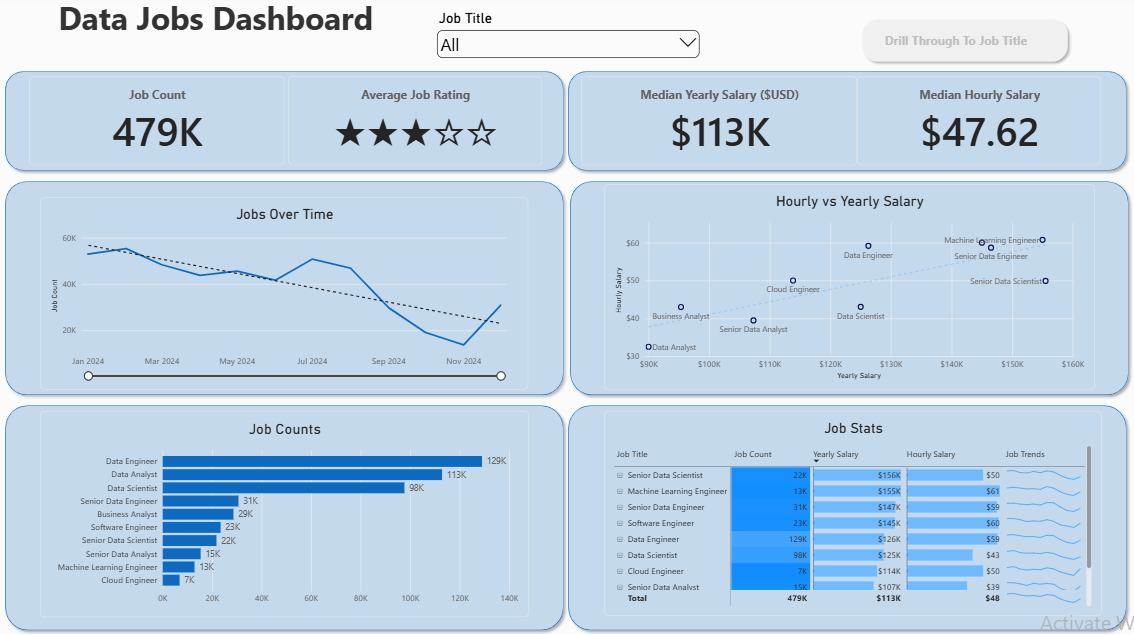

What the dashboard file says about the page in this screenshot:
{"tool":"powerbi","page":{"name":"Data Jobs Dashboard","canvas":[1920,1080],"ordinal":0},"visuals":[{"type":"shape","box":[0,118.6,960,185.5],"z":0,"group":"g1"},{"type":"group","id":"g1","title":"Background","box":[0,118.6,1914.3,961.9],"z":500},{"type":"textbox","box":[9.6,0,707.6,97.5],"z":1000},{"type":"shape","box":[950.4,118.6,960,185.5],"z":1000,"group":"g1"},{"type":"slicer","fields":{"Values":["job_postings_flat.job_title_short"]},"box":[732.4,22.9,453.2,281.1],"z":2000},{"type":"shape","box":[0,304.1,960,378.6],"z":2000,"group":"g1"},{"type":"cardVisual","fields":{"Data":["Median(job_postings_flat.salary_hour_avg)"]},"box":[1446.4,135.3,412.9,151.6],"z":3000},{"type":"shape","box":[954.3,304.1,960,378.6],"z":3000,"group":"g1"},{"type":"cardVisual","fields":{"Data":["Median(job_postings_flat.salary_year_avg)"]},"box":[979.8,135.3,466.6,151.6],"z":4000},{"type":"shape","box":[0,682.7,960,397.8],"z":4000,"group":"g1"},{"type":"cardVisual","fields":{"Data":["job_postings_flat.Salary Star Rating"]},"box":[485.2,135.3,429.3,151.6],"z":5000},{"type":"shape","box":[950.4,682.7,960,397.8],"z":5000,"group":"g1"},{"type":"cardVisual","fields":{"Data":["CountNonNull(job_postings_flat.job_title_short)"]},"box":[49,135.3,431.6,151.6],"z":6000},{"type":"lineChart","title":"Jobs Over Time","fields":{"Category":["job_postings_flat.job_posted_date.Variation.Date Hierarchy.Year","job_postings_flat.job_posted_date.Variation.Date Hierarchy.Quarter","job_postings_flat.job_posted_date.Variation.Date Hierarchy.Month","job_postings_flat.job_posted_date.Variation.Date Hierarchy.Day"],"Y":["CountNonNull(job_postings_flat.job_title_short)"]},"box":[67.4,338.8,824.3,325],"z":7000},{"type":"barChart","title":"Job Counts","fields":{"Category":["job_postings_flat.job_title_short"],"Y":["CountNonNull(job_postings_flat.job_title_short)"]},"box":[67.2,700.8,824.8,347.8],"z":8000},{"type":"scatterChart","title":"Hourly vs Yearly Salary","fields":{"Series":["job_postings_flat.job_title_short"],"X":["Median(job_postings_flat.salary_year_avg)"],"Y":["Median(job_postings_flat.salary_hour_avg)"]},"box":[1019.5,317.3,828.2,347.6],"z":9000},{"type":"pivotTable","title":"Job Stats","fields":{"Rows":["job_postings_flat.job_title_short","job_postings_flat.job_posted_date.Variation.Date Hierarchy.Quarter"],"Values":["CountNonNull(job_postings_flat.job_title_short)","Median(job_postings_flat.salary_year_avg)","Median(job_postings_flat.salary_hour_avg)","SparklineData(CountNonNull(job_postings_flat.job_title_short)_[job_postings_flat.job_posted_date.Variation.Date Hierarch"]},"box":[1019.4,700.8,840.3,346.1],"z":10000},{"type":"actionButton","box":[1446.4,29.7,364.6,89.2],"z":11000}]}

Visuals, with their boxes in screenshot pixels (x1, y1, x2, y2), scaled from the page's 1920x1080 canvas onto the 1134x634 screenshot:
shape: (x1=0, y1=70, x2=567, y2=179)
"Background" group: (x1=0, y1=70, x2=1131, y2=633)
textbox: (x1=6, y1=0, x2=424, y2=57)
shape: (x1=561, y1=70, x2=1128, y2=179)
slicer - job_postings_flat.job_title_short: (x1=433, y1=13, x2=700, y2=178)
shape: (x1=0, y1=179, x2=567, y2=401)
cardVisual - Median(job_postings_flat.salary_hour_avg): (x1=854, y1=79, x2=1098, y2=168)
shape: (x1=564, y1=179, x2=1131, y2=401)
cardVisual - Median(job_postings_flat.salary_year_avg): (x1=579, y1=79, x2=854, y2=168)
shape: (x1=0, y1=401, x2=567, y2=633)
cardVisual - job_postings_flat.Salary Star Rating: (x1=287, y1=79, x2=540, y2=168)
shape: (x1=561, y1=401, x2=1128, y2=633)
cardVisual - CountNonNull(job_postings_flat.job_title_short): (x1=29, y1=79, x2=284, y2=168)
"Jobs Over Time" lineChart: (x1=40, y1=199, x2=527, y2=390)
"Job Counts" barChart: (x1=40, y1=411, x2=527, y2=616)
"Hourly vs Yearly Salary" scatterChart: (x1=602, y1=186, x2=1091, y2=390)
"Job Stats" pivotTable: (x1=602, y1=411, x2=1098, y2=615)
actionButton: (x1=854, y1=17, x2=1070, y2=70)
